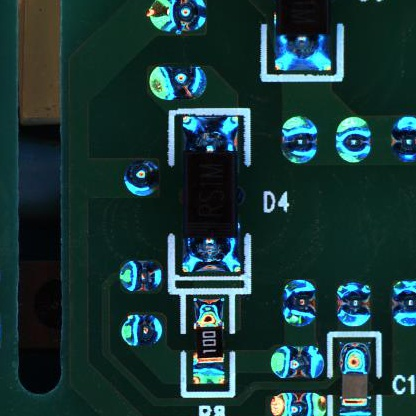spot: (147, 63, 209, 103), (147, 1, 210, 35), (270, 343, 324, 379), (281, 115, 318, 164), (333, 116, 371, 163), (335, 281, 374, 326), (283, 277, 316, 327), (118, 260, 163, 294), (120, 314, 164, 347), (123, 161, 161, 197), (269, 392, 328, 415), (390, 116, 416, 164), (390, 279, 416, 327)
